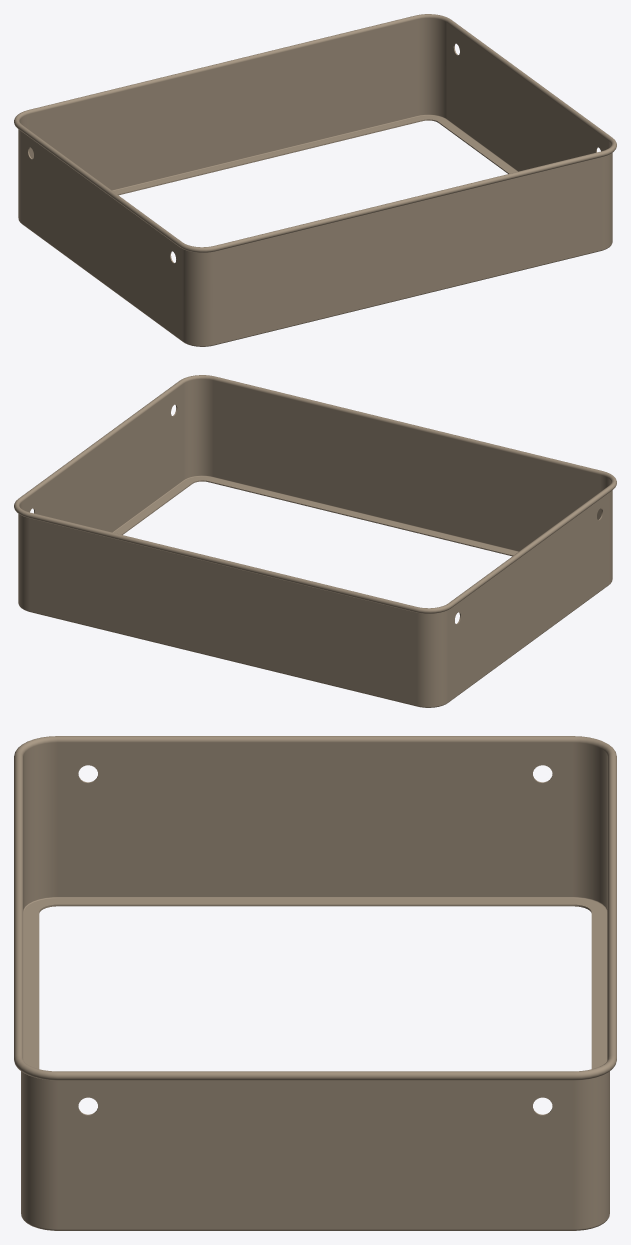
The model's file is 矩形弯框.fbx.
3 renders of one model, top to bottom at view 1: azimuth 30°, elevation 25°; view 2: azimuth 150°, elevation 25°; view 3: azimuth 270°, elevation 25°, orthographic. The views are drawn at different scales.
Bounding box in the file's own units: 0.4062 × 0.09 × 0.3052.
